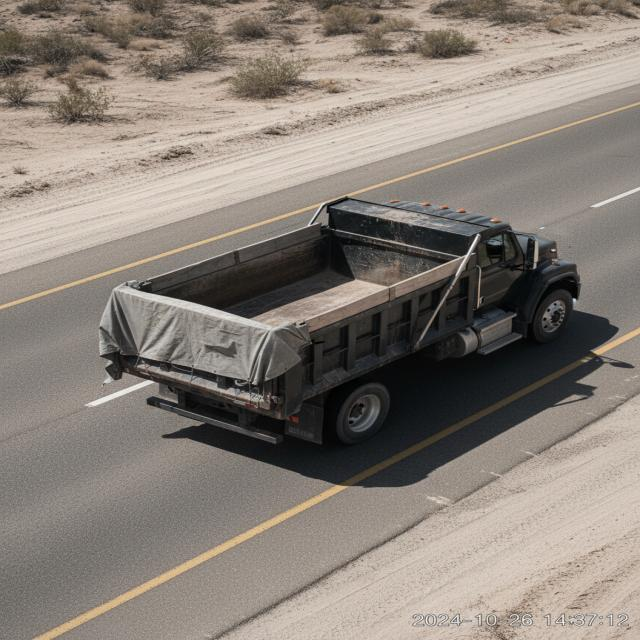Box: (106, 198, 514, 356)
Truck: (78, 181, 625, 434)
